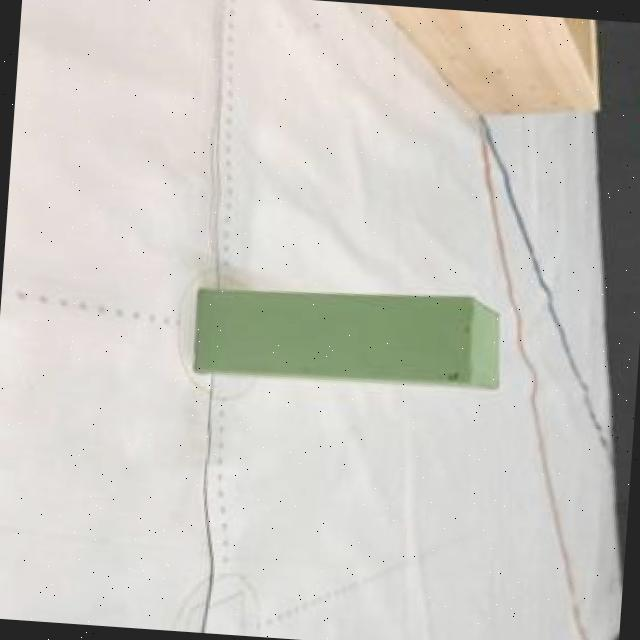greenbox: (192, 274, 510, 396)
